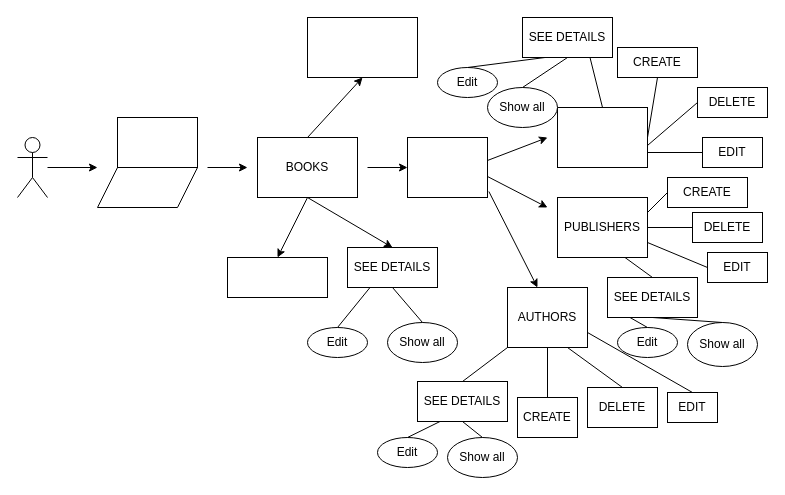
Some shapes in this 785 by 495 pixel diagram are drawn without their labels. The centre of each missing label's shape, as x and y in pixels:
ADD TO CART: pixel 277 277
DROPDOWN MENU: pixel 447 167
LIBRARIES: pixel 602 137
SEARCH ENGINE: pixel 362 47
SITE: pixel 157 142
User: pixel 32 167
